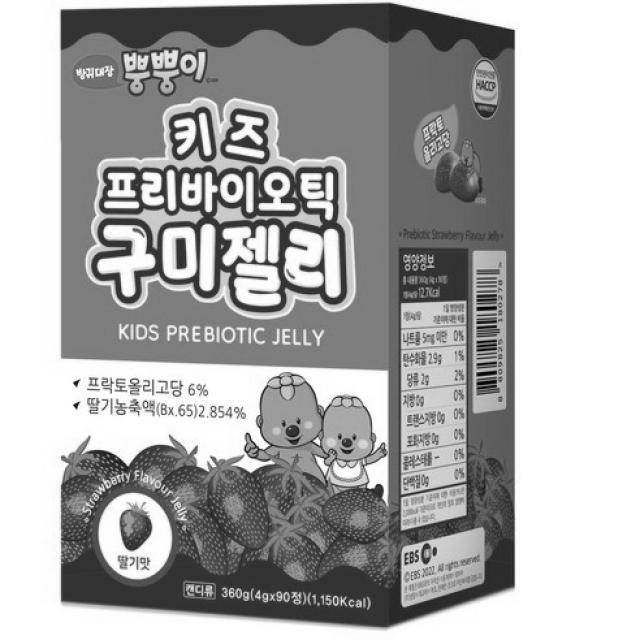Nutrition Label: (396, 260, 476, 533)
